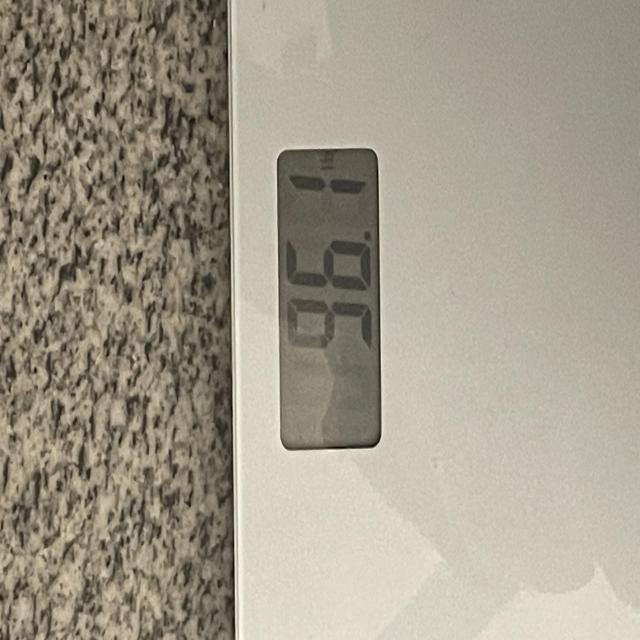ws: (227, 0, 640, 640)
